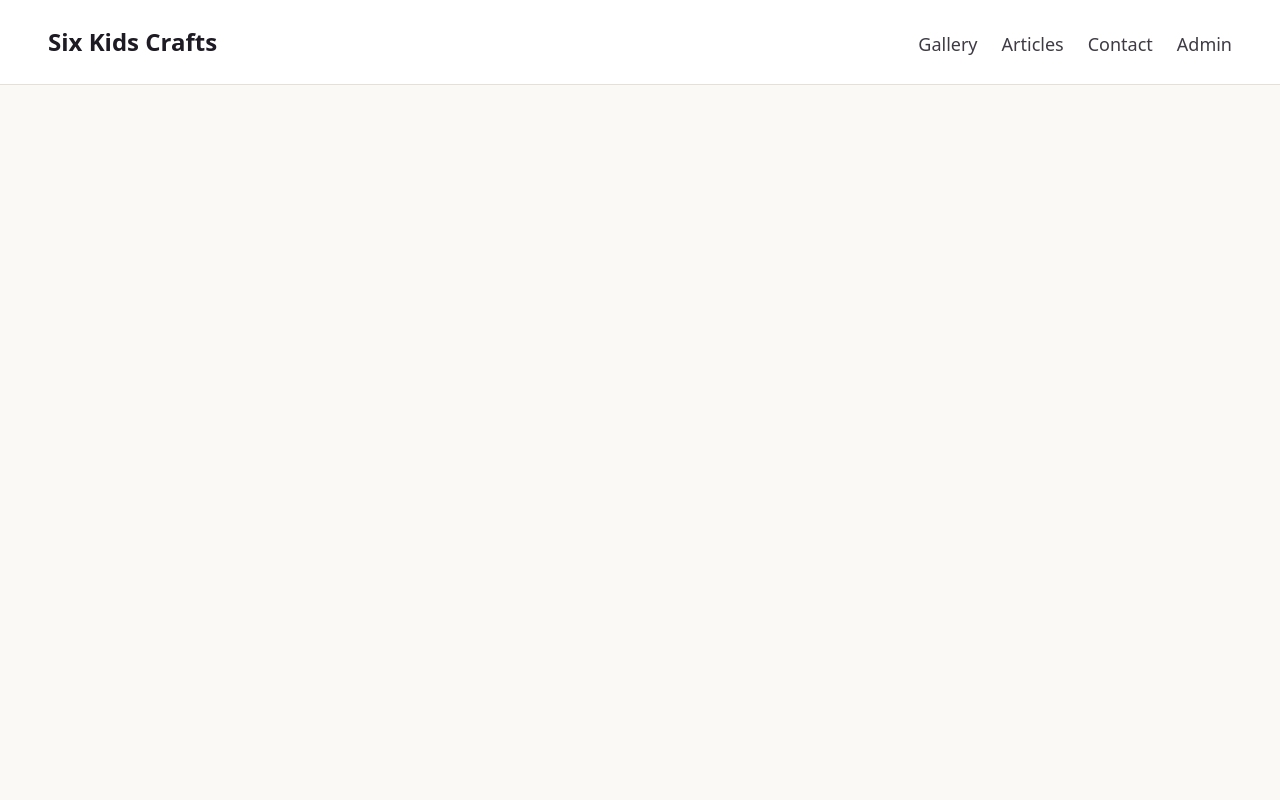
Scenario: App › shows the gallery when the Gallery tab is clicked from the landing
Check: the text "Oak shelf" is not shown
What coordinates should you click on to do the following:
click the link "Gallery"
I would click on:
 (948, 44)
Its box is [918, 31, 978, 58].
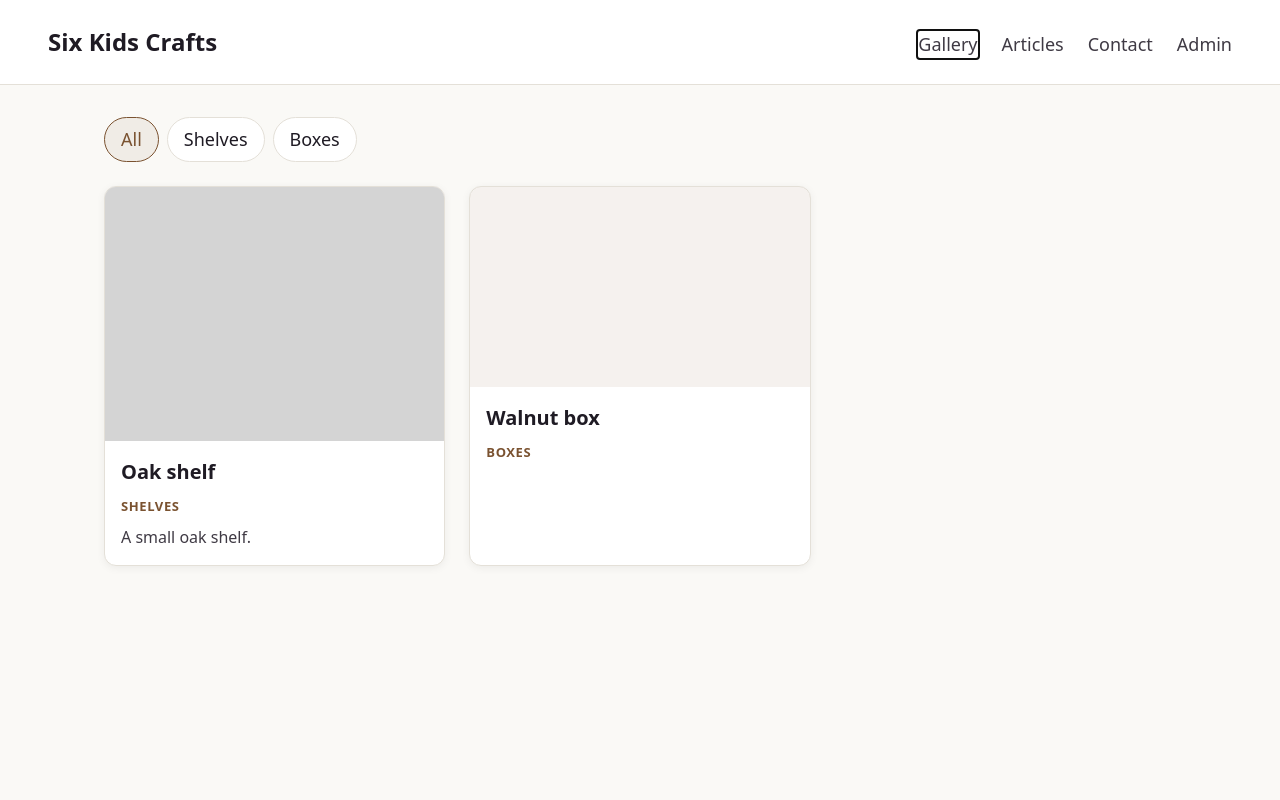
Check: the heading "Oak shelf" is shown, box [121, 458, 215, 486]
